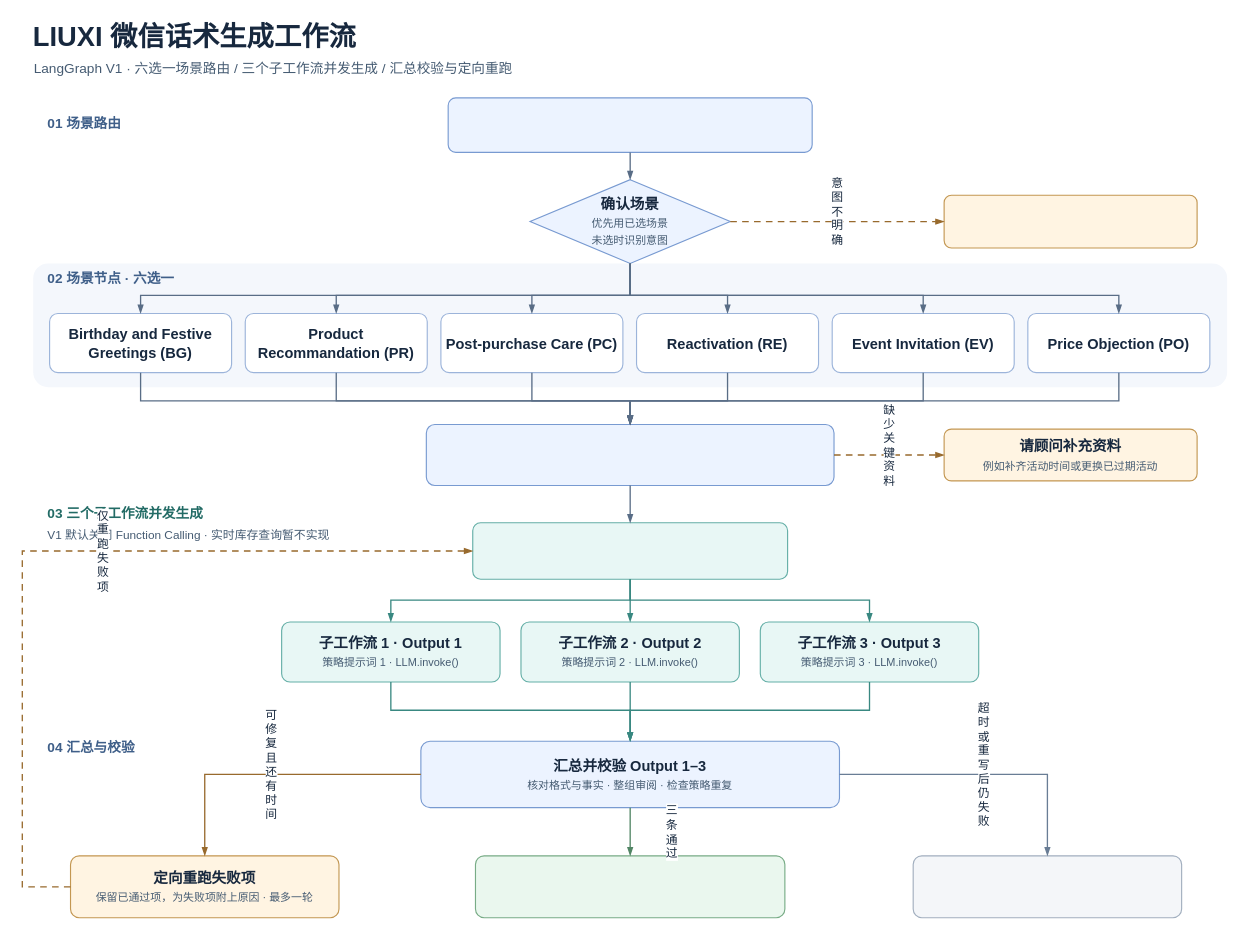
Image size: 1243x934. Some labels were removed from this diagram. Here are the shapes that lost their labels. From the top down, the centre of each, then its label:
At [629,125]: "顾问输入 客户资料、聊天记录、场景、相关商品或活动".
At [1070,221]: "请顾问确认场景 意图不明确时，请顾问确认".
At [629,455]: "准备共享上下文与三套提示词 复用输入与品牌规则，按场景选三套策略（共 18 套）".
At [630,550]: "按条件边并行分发 首次运行三个子工作流，重跑只分发待修复项".
At [629,886]: "交付三条合格话术 顾问选择、编辑和发送".
At [1047,886]: "返回已通过项并标明未齐 无合格项时提示生成失败".
